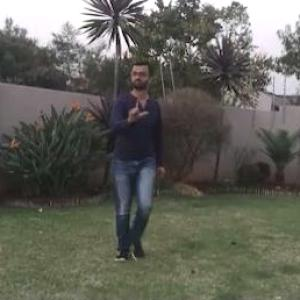land_hand: (115, 87, 148, 128)
